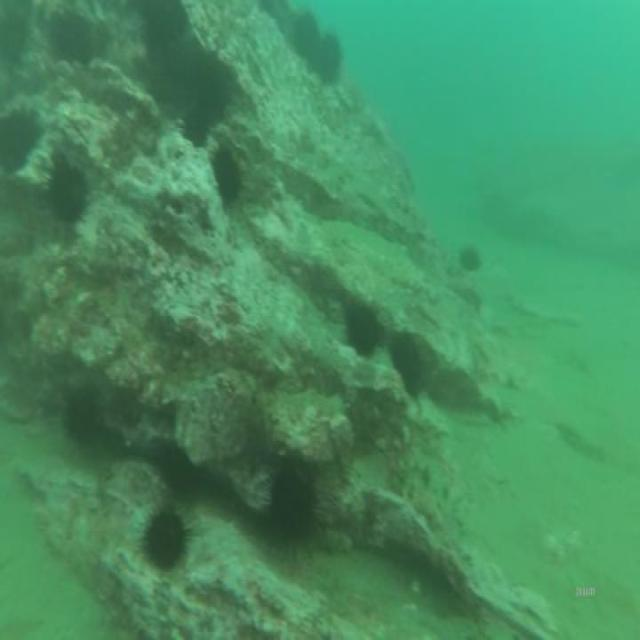echinus: (263, 448, 319, 560), (36, 150, 94, 232), (141, 498, 186, 575), (339, 290, 384, 366), (388, 322, 428, 404), (208, 139, 251, 215), (60, 382, 101, 450), (284, 6, 318, 70), (314, 27, 348, 90), (176, 103, 213, 155)
